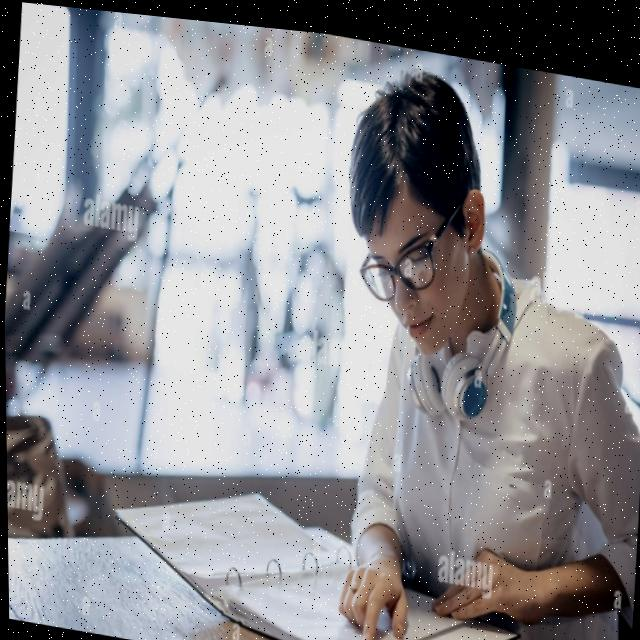studying-person: (92, 8, 640, 640)
